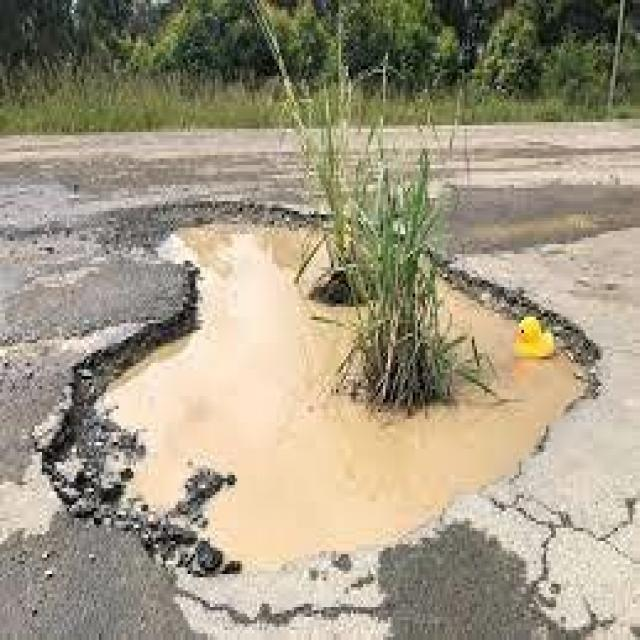Pothole: (30, 165, 610, 630)
